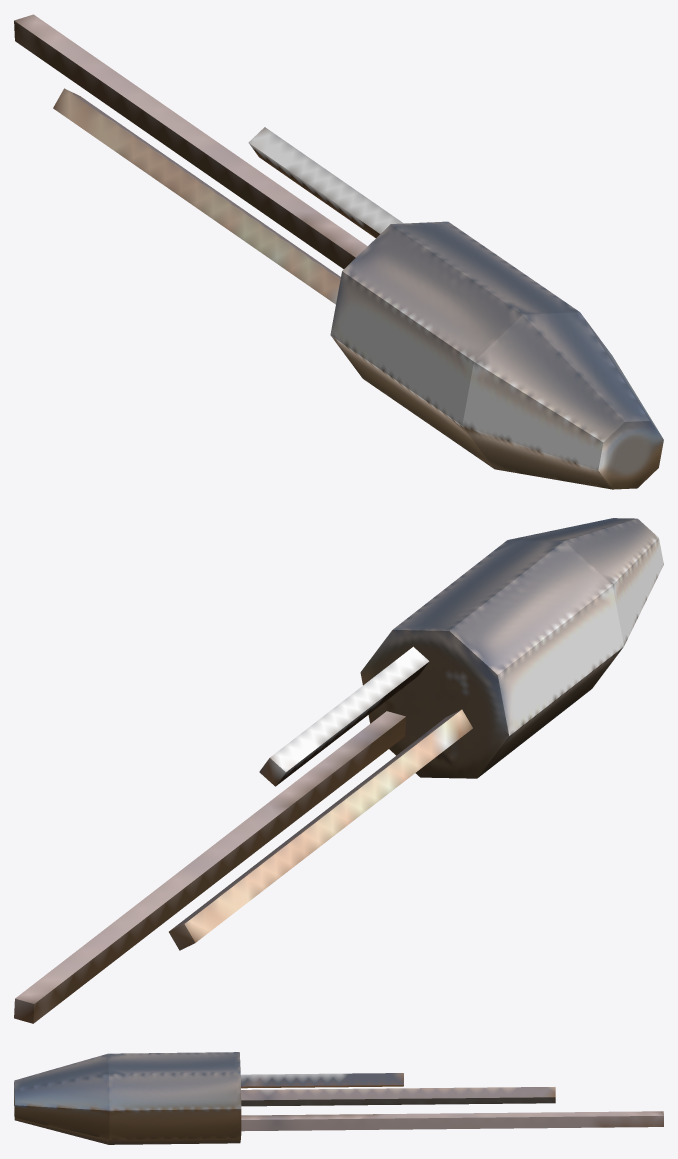
3 views of the same model, one above another, from view 1: azimuth 30°, elevation 25°; view 2: azimuth 150°, elevation 25°; view 3: azimuth 270°, elevation 25° (orthographic). The views are drawn at different scales.
Visible parts, largest first — view 1: Bala_Cylinder.003, Estela_1_Cube.006, Estela_3_Cube.008, Estela_2_Cube.007; view 2: Bala_Cylinder.003, Estela_1_Cube.006, Estela_3_Cube.008, Estela_2_Cube.007; view 3: Bala_Cylinder.003, Estela_1_Cube.006, Estela_3_Cube.008, Estela_2_Cube.007.
Boxes of the visible parts, x1,y1,x2,y2 form: Bala_Cylinder.003: [330, 221, 663, 489]; Estela_1_Cube.006: [14, 14, 367, 268]; Estela_3_Cube.008: [53, 88, 340, 304]; Estela_2_Cube.007: [248, 127, 403, 237]; Bala_Cylinder.003: [360, 518, 663, 778]; Estela_1_Cube.006: [14, 711, 406, 1023]; Estela_3_Cube.008: [169, 709, 472, 950]; Estela_2_Cube.007: [259, 646, 429, 786]; Bala_Cylinder.003: [14, 1052, 241, 1144]; Estela_1_Cube.006: [241, 1111, 663, 1131]; Estela_3_Cube.008: [241, 1087, 555, 1106]; Estela_2_Cube.007: [240, 1073, 403, 1088].
Size of what is drawn, in the model's own units: 0.2862 by 0.2754 by 1.94.
